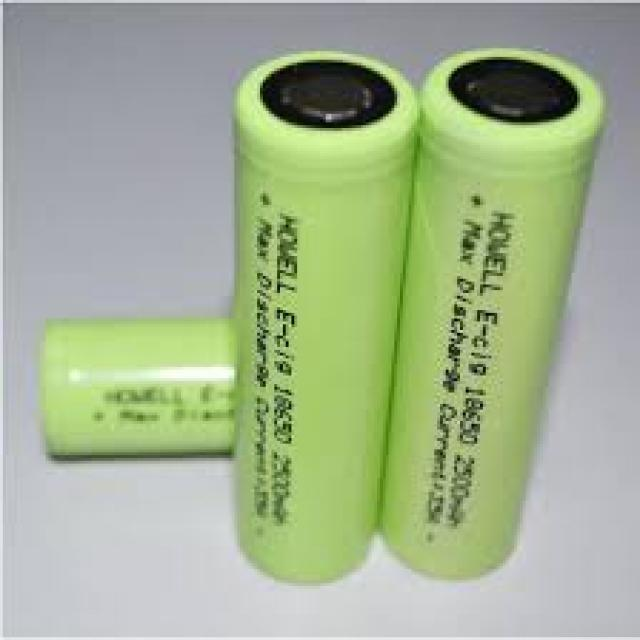battery: (379, 41, 608, 578), (238, 52, 428, 602)
